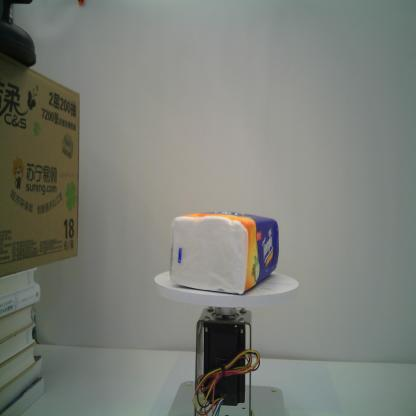Tissue: (168, 210, 280, 296)
